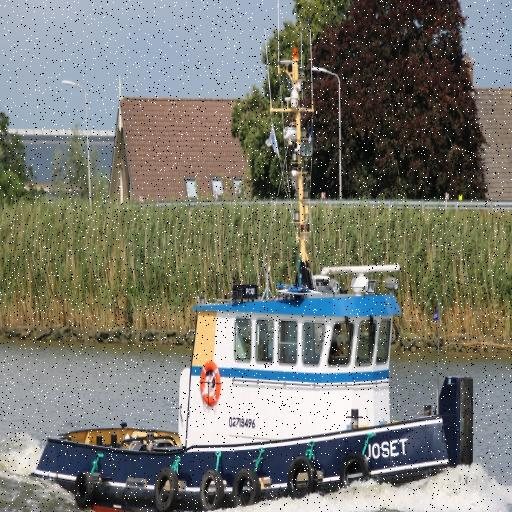tugboat: (21, 46, 478, 512)
